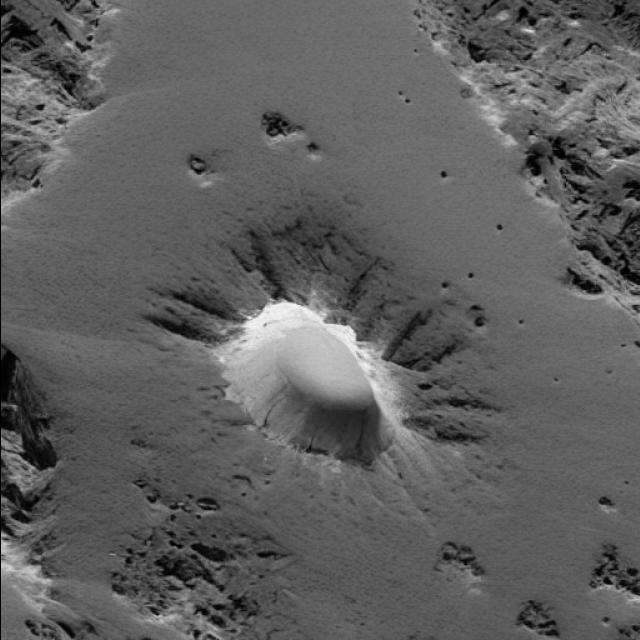crater: (212, 302, 400, 472)
